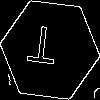T: (25, 25, 58, 74)
